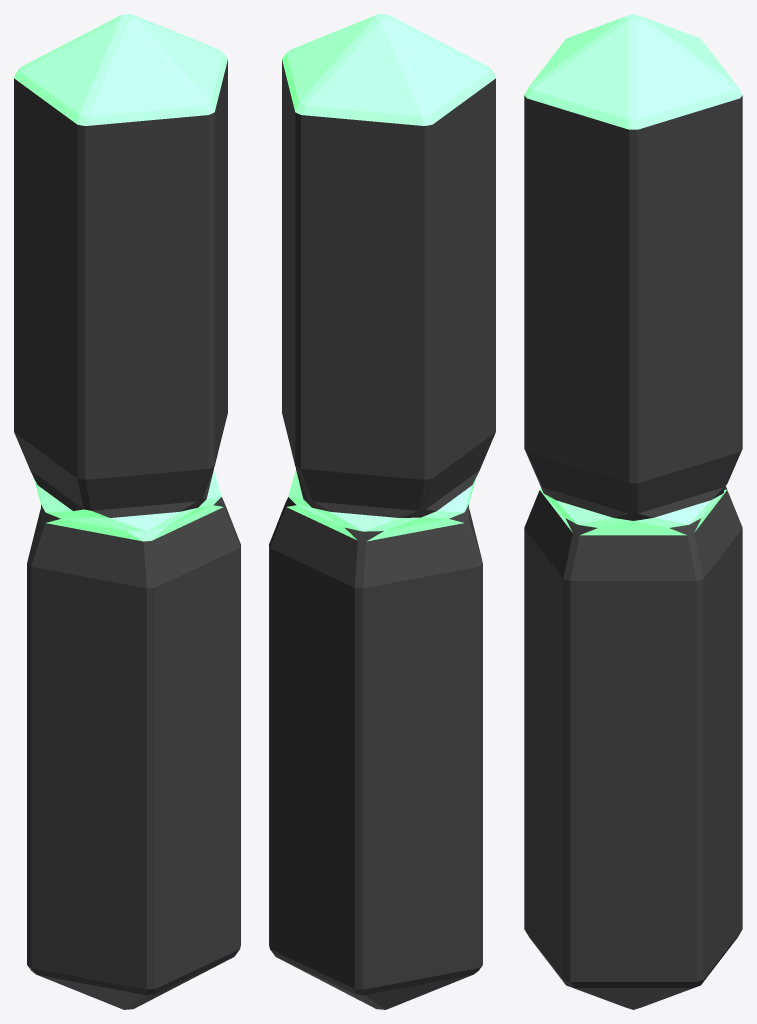
The model's file is obelisk.fbx.
3 views of the same model, side by side, from view 1: azimuth 30°, elevation 25°; view 2: azimuth 150°, elevation 25°; view 3: azimuth 270°, elevation 25° (orthographic).
Parts seen in each view (by area): view 1: Icosphere; view 2: Icosphere; view 3: Icosphere.
Part boxes in pixels (bbox=[...]): Icosphere: bbox=[14, 14, 240, 1009]; Icosphere: bbox=[269, 14, 495, 1009]; Icosphere: bbox=[524, 14, 742, 1009].
Size of the model in its own units: 174 by 837 by 168.
